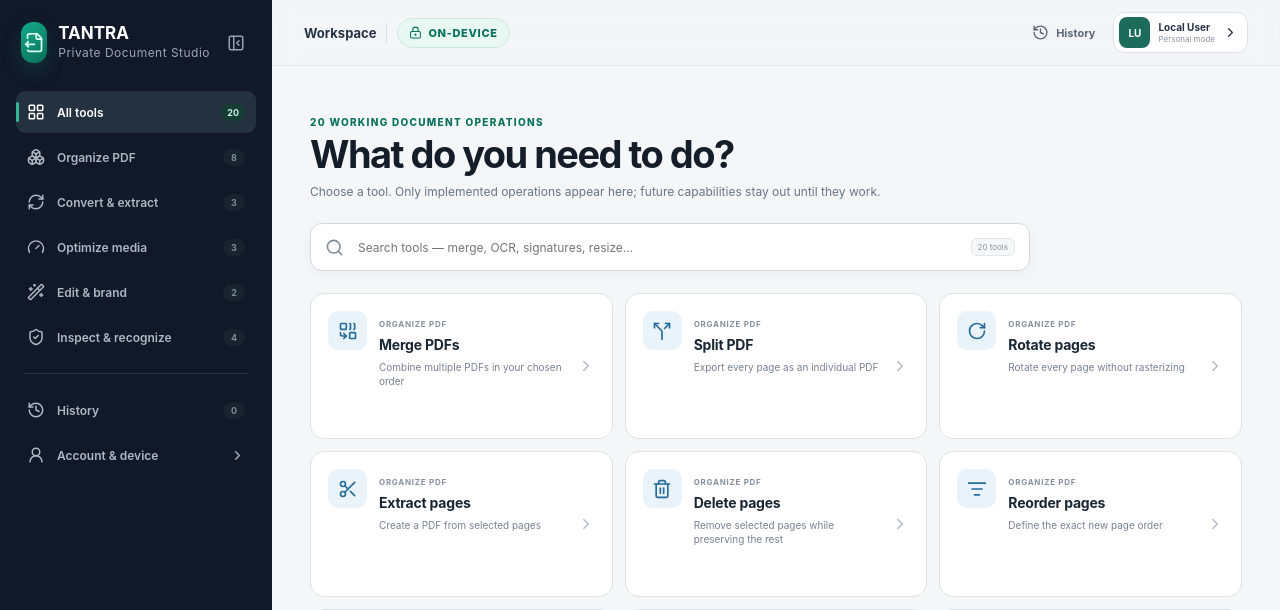
real tool interaction flows › exposes the scalable searchable tool library and profile entry
Expected: the text "20 working document operations" is shown, [310,116,544,128]
Type "Assamese" into the field with placeholder "Search tools — merge, OCR, signatures, resize…".
click(658, 247); type("Assamese")  # box [356,239,960,256]
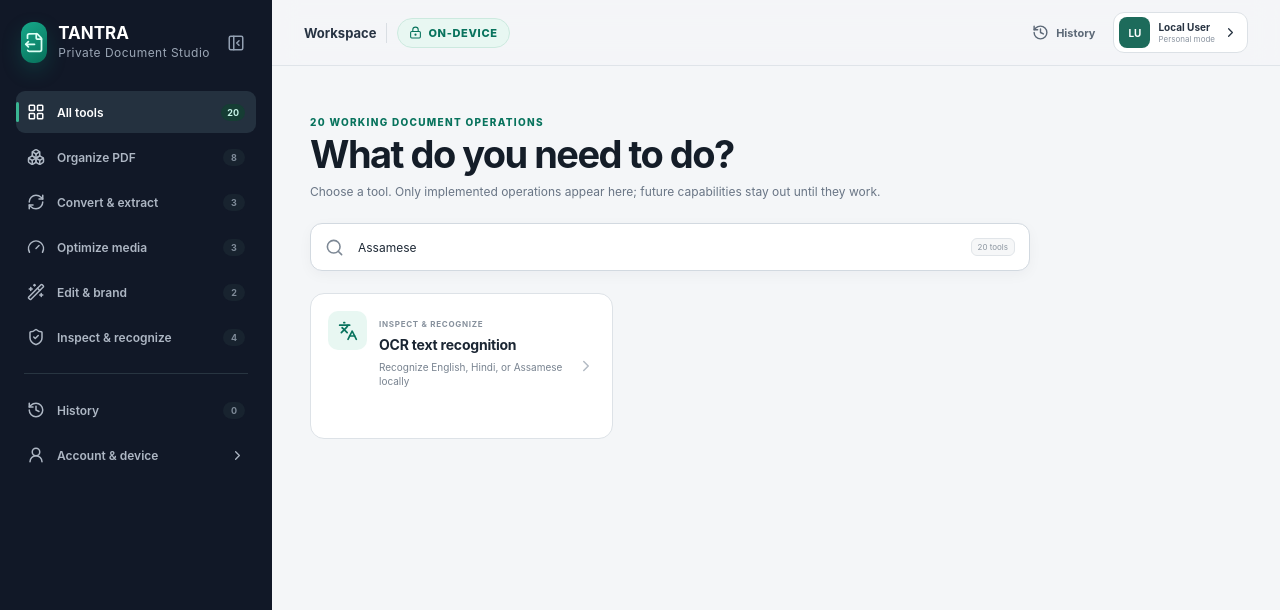
Expected: the button "OCR text recognition" is shown, [310,293,613,439]
Expected: the button "Merge PDFs" is gone
Click the button with aria-label "Open account profile".
click(1181, 32)  # box [1114,12,1248,53]
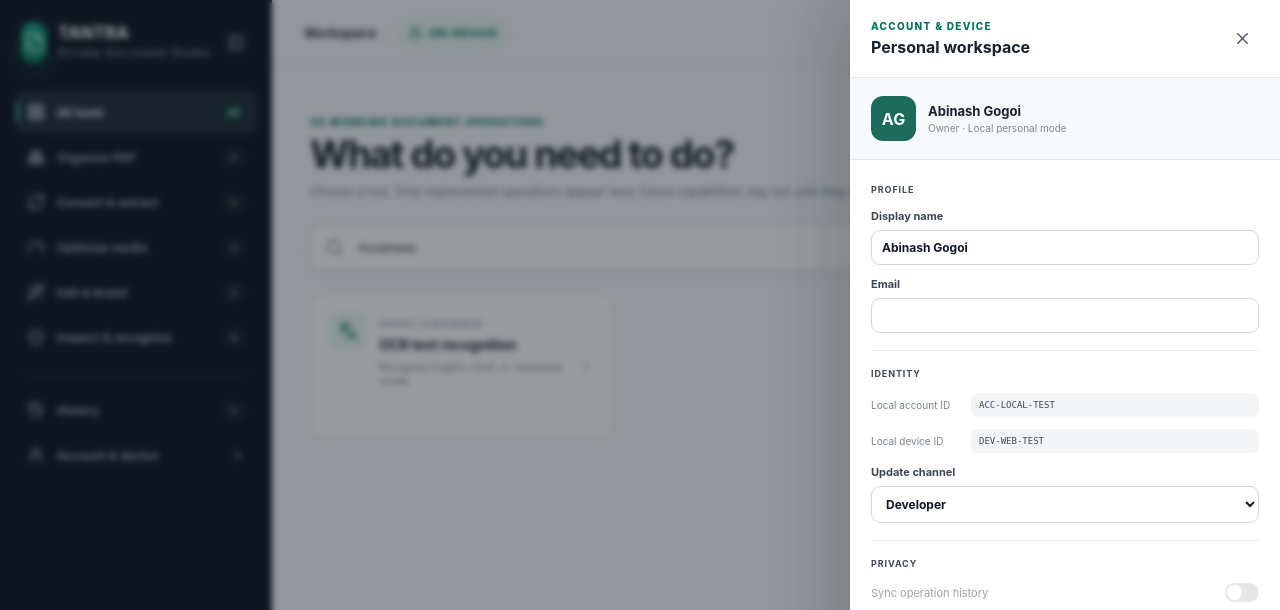
Expected: the heading "Personal workspace" is shown, [871,37,1030,57]
Expected: the text "ACC-LOCAL-TEST" is shown, [971,393,1259,417]
Expected: the text "DEV-WEB-TEST" is shown, [971,429,1259,453]
